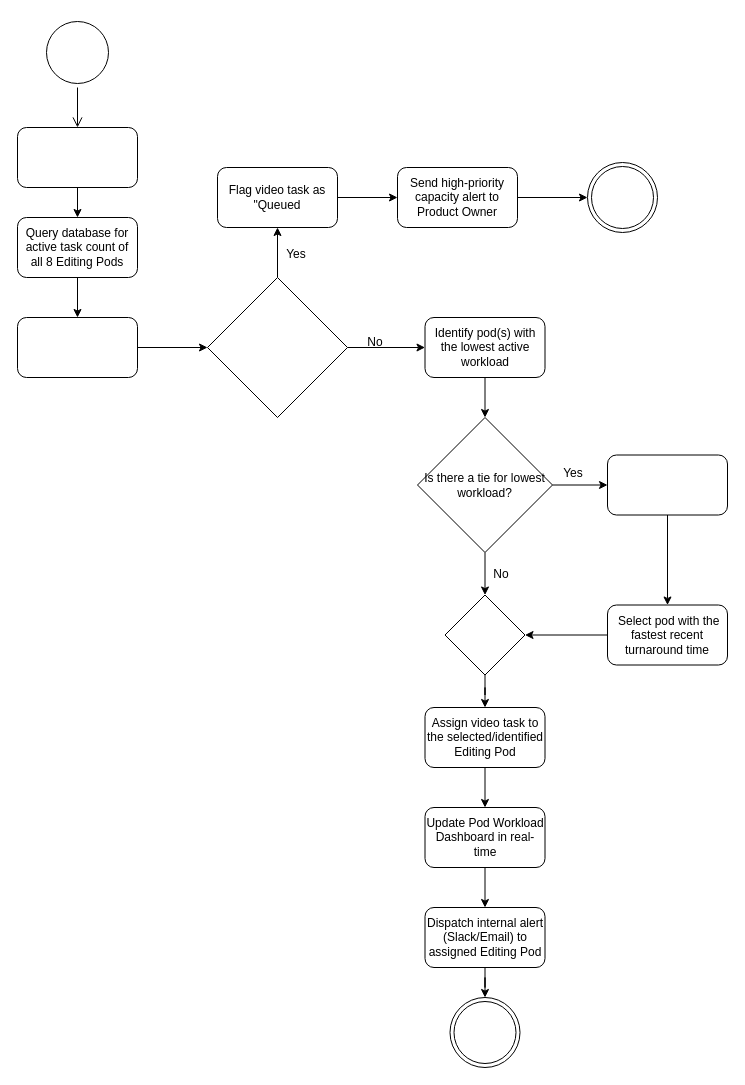
Image size: 745x1085. Some labels were removed from this diagram. Here are the shapes that lost their labels. From the top down, the box of each, then its label:
(16, 126, 138, 188): Detect newly uploaded video task in intake queue
(16, 316, 138, 378): Calculate capacity of each pod (active tasks vs. pod size)
(206, 276, 348, 418): Are all 8 pods at maximum capacity?
(606, 454, 728, 515): Check historical completion time of tied pods
